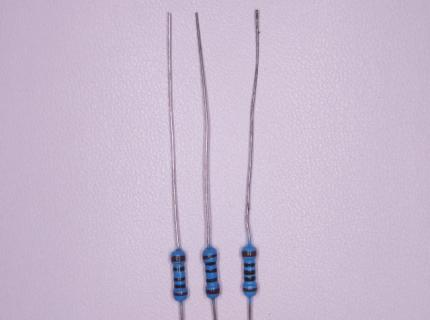Black band: (206, 277, 218, 283), (244, 270, 255, 276), (244, 276, 255, 282), (174, 284, 186, 289), (174, 277, 186, 282), (173, 266, 185, 271), (205, 261, 217, 266), (206, 268, 217, 273), (244, 262, 255, 267)
Brown band: (206, 287, 220, 295), (171, 255, 186, 262), (202, 253, 217, 260), (242, 250, 257, 257), (242, 287, 258, 292), (173, 291, 188, 296)
